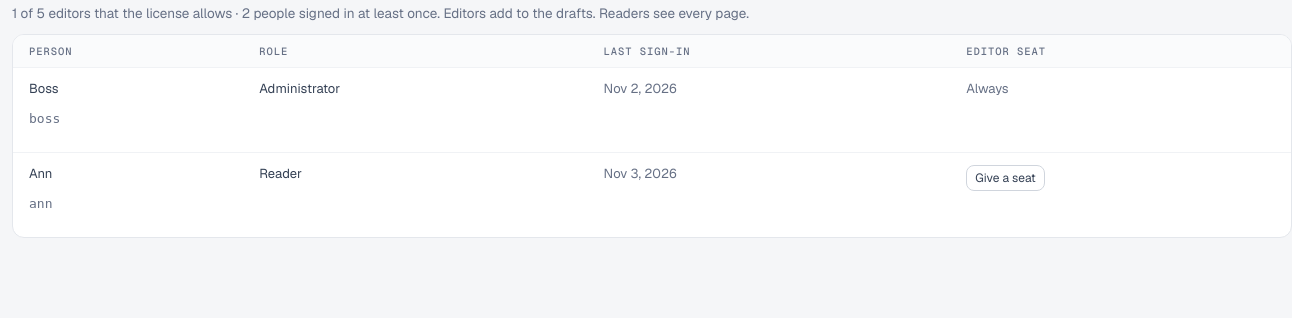
Test: PeopleView › shows a refusal of the portal
Step 1. Click the button "Give a seat" → click(1005, 178), box [966,165,1045,191]
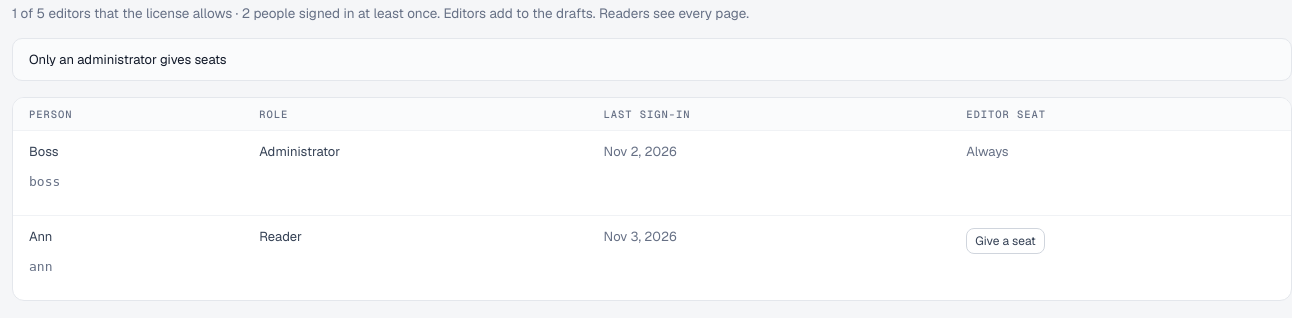
Expected: the text "Only an administrator gives seats" is shown, [12,38,1291,81]
